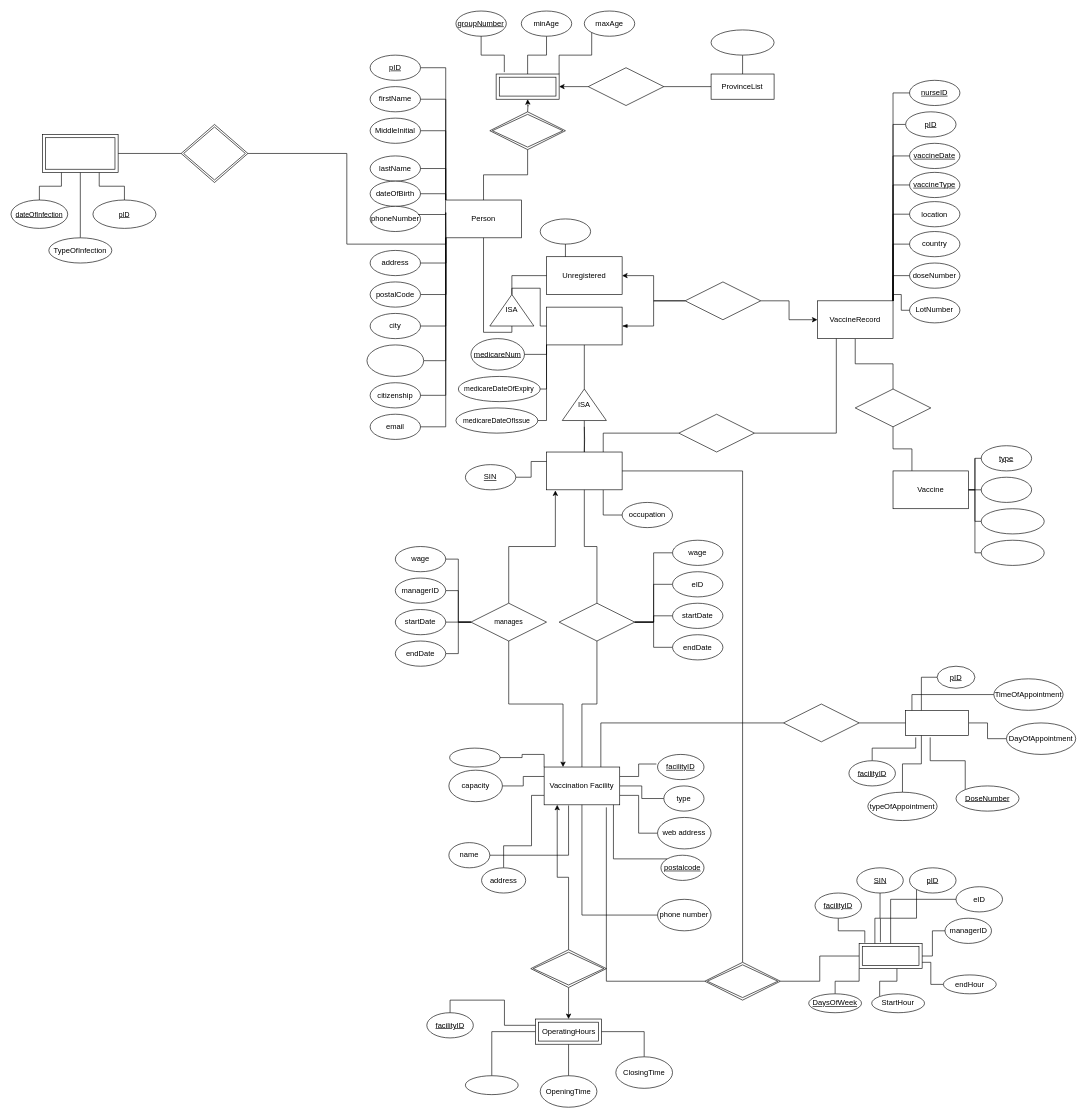
The diagram is 1087 pixels wide and 1118 high, and some of its shapes have lost their labels. The box of each missing label's shape, as (x1, y1, x2, y2) in pixels:
administers: (678, 414, 754, 452)
Age Group: (495, 73, 559, 99)
BelongsTo: (489, 111, 565, 150)
Booking: (783, 703, 859, 742)
BookingSlots: (905, 710, 969, 736)
Category: (449, 747, 500, 767)
dateOfApproval: (981, 508, 1044, 534)
dateOfSuspension: (981, 540, 1044, 565)
DayOfWeek: (465, 1075, 518, 1095)
Eligibility: (588, 67, 664, 106)
hasBeenVaccinated: (684, 281, 761, 320)
infectedBy: (180, 124, 248, 183)
InfectionHistory: (42, 134, 118, 172)
Operations: (530, 949, 606, 988)
passportNum: (540, 218, 591, 244)
province: (710, 29, 774, 55)
provinceOrState: (366, 344, 424, 376)
PublicHealthWorker: (546, 451, 622, 490)
Registered: (546, 306, 622, 345)
Schedule: (704, 962, 780, 1000)
Shifts: (859, 943, 922, 969)
status: (981, 477, 1032, 502)
Uses: (855, 388, 931, 427)
worksAt: (558, 603, 635, 641)
